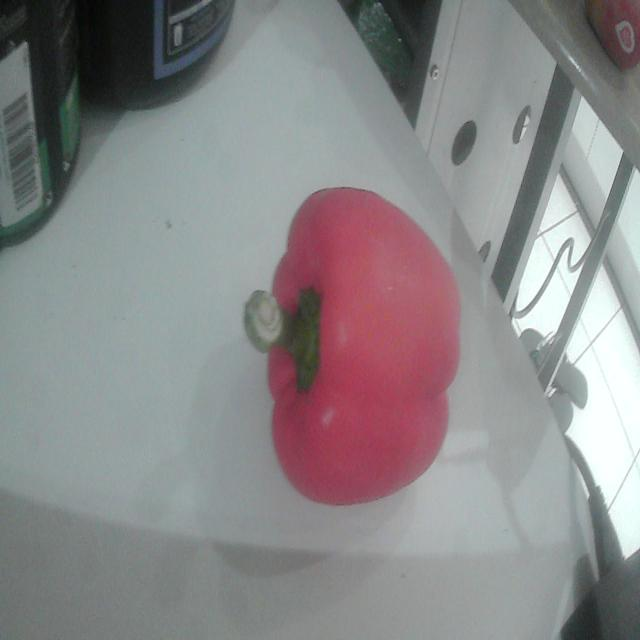Bell Pepper: (246, 188, 460, 505)
